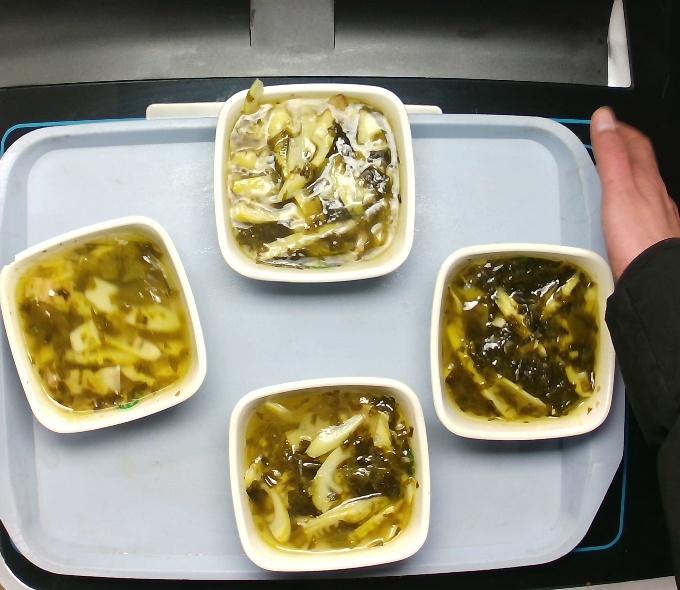wcq-DongSunTang: (223, 75, 404, 272), (11, 228, 197, 415), (242, 381, 420, 557), (437, 250, 607, 428)
